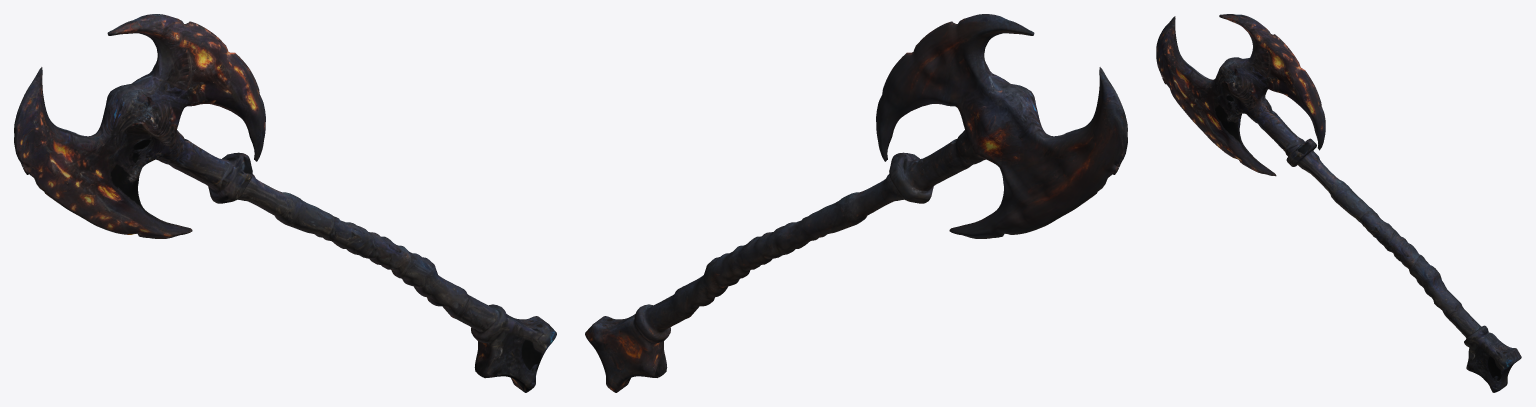
The model's file is ResentfulFhantomWeapon_FBX.fbx.
3 views of the same model, side by side, from view 1: azimuth 30°, elevation 25°; view 2: azimuth 150°, elevation 25°; view 3: azimuth 330°, elevation 25° (orthographic). The views are drawn at different scales.
Parts seen in each view (by area): view 1: Mesh1_Mesh1.004; view 2: Mesh1_Mesh1.004; view 3: Mesh1_Mesh1.004.
Boxes of the visible parts, x1,y1,x2,y2 form: Mesh1_Mesh1.004: [14, 14, 556, 392]; Mesh1_Mesh1.004: [585, 14, 1127, 392]; Mesh1_Mesh1.004: [1156, 14, 1521, 392].
Bounding box in the file's own units: 200 × 166 × 17.66.
Materials: 1 (1 with a texture image).
